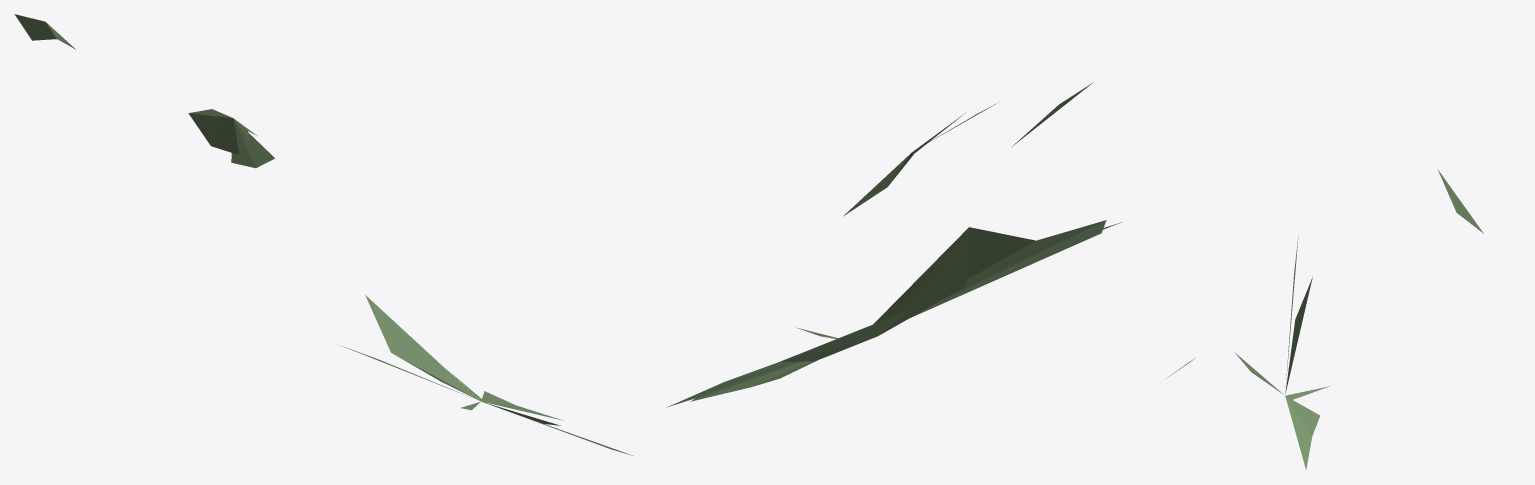
Rendered from c_1665_17817_parks.glb.
3 renders of one model, left to right at view 1: azimuth 30°, elevation 25°; view 2: azimuth 150°, elevation 25°; view 3: azimuth 270°, elevation 25°, orthographic. The views are drawn at different scales.
Visible parts, largest first — view 1: geometry_0; view 2: geometry_0; view 3: geometry_0.
Part boxes in pixels (box(x1,y1,x2,y2)): geometry_0: box(14, 14, 633, 455); geometry_0: box(667, 82, 1122, 407); geometry_0: box(1167, 170, 1483, 469).
Size of the model in its own units: 196 by 180 by 195.
